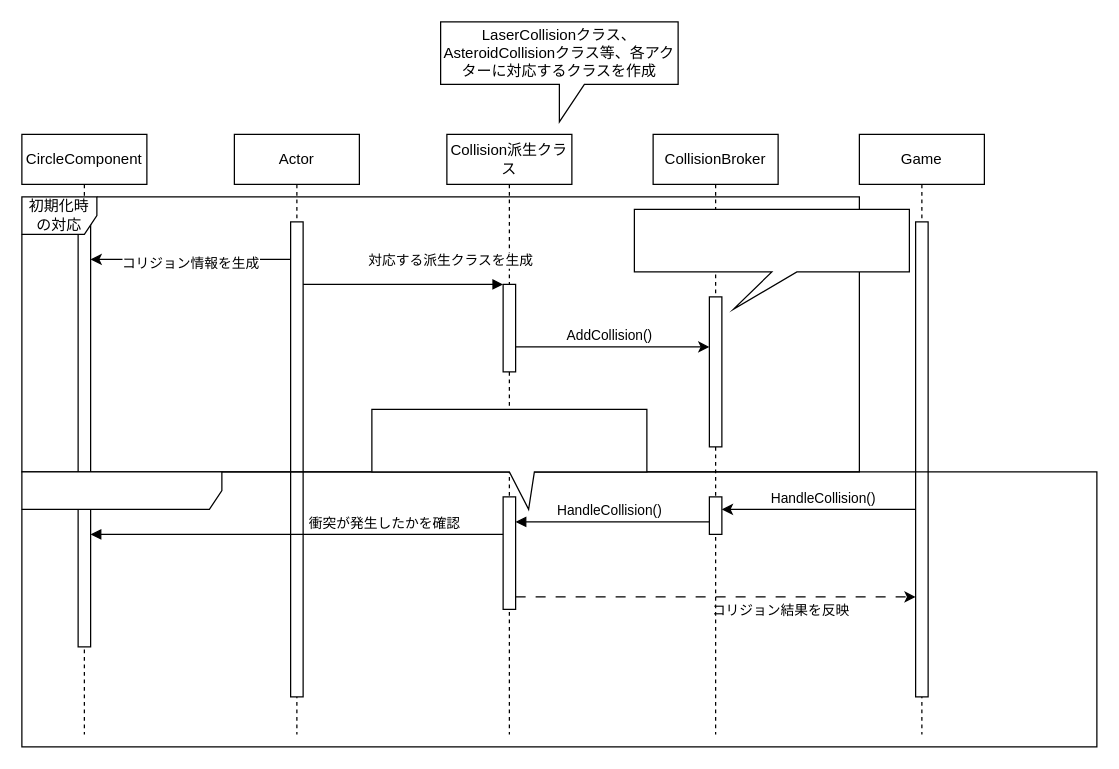
This 1119x769 diagram has some shape labels left out. The box of each missing label's shape, as (x1, y1, x2, y2) in pixels:
Collision派生クラスをリストにして持っておく。そのリストに追加する: (633, 208, 909, 309)
ゲームループ中の対応: (21, 471, 1097, 747)
生成した全てのCollision派生クラスでこの処理を行う: (371, 408, 647, 509)
